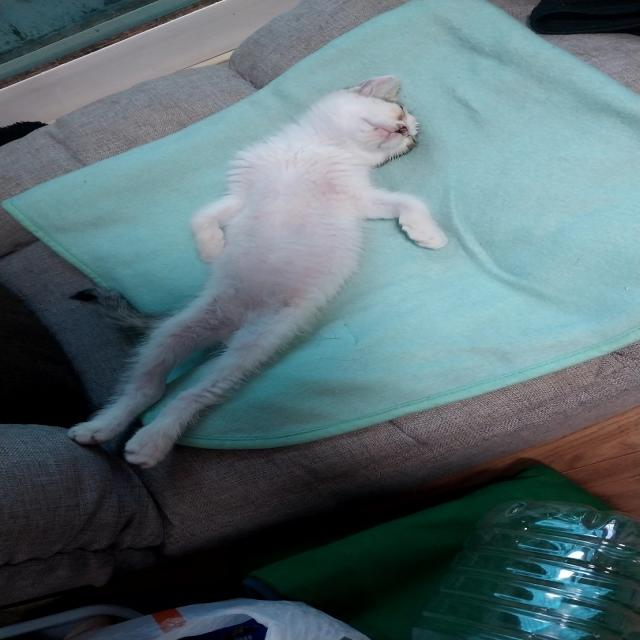cat: (70, 70, 451, 472)
